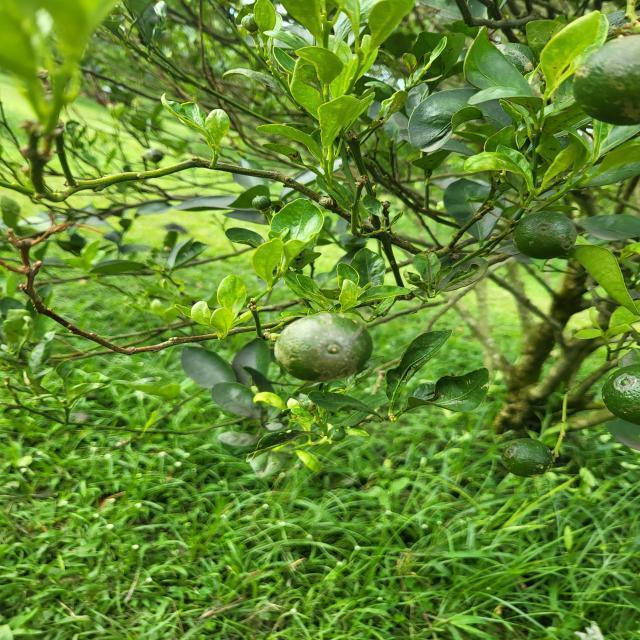thrips: (276, 302, 376, 383)
